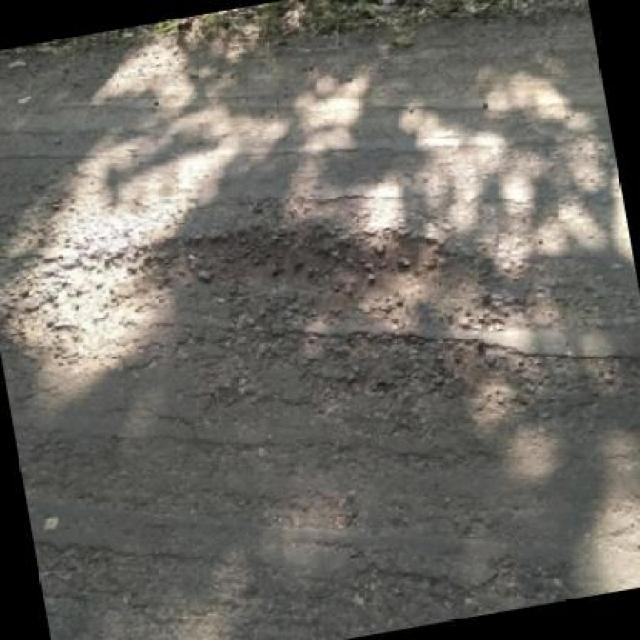pothole: (113, 178, 504, 380)
